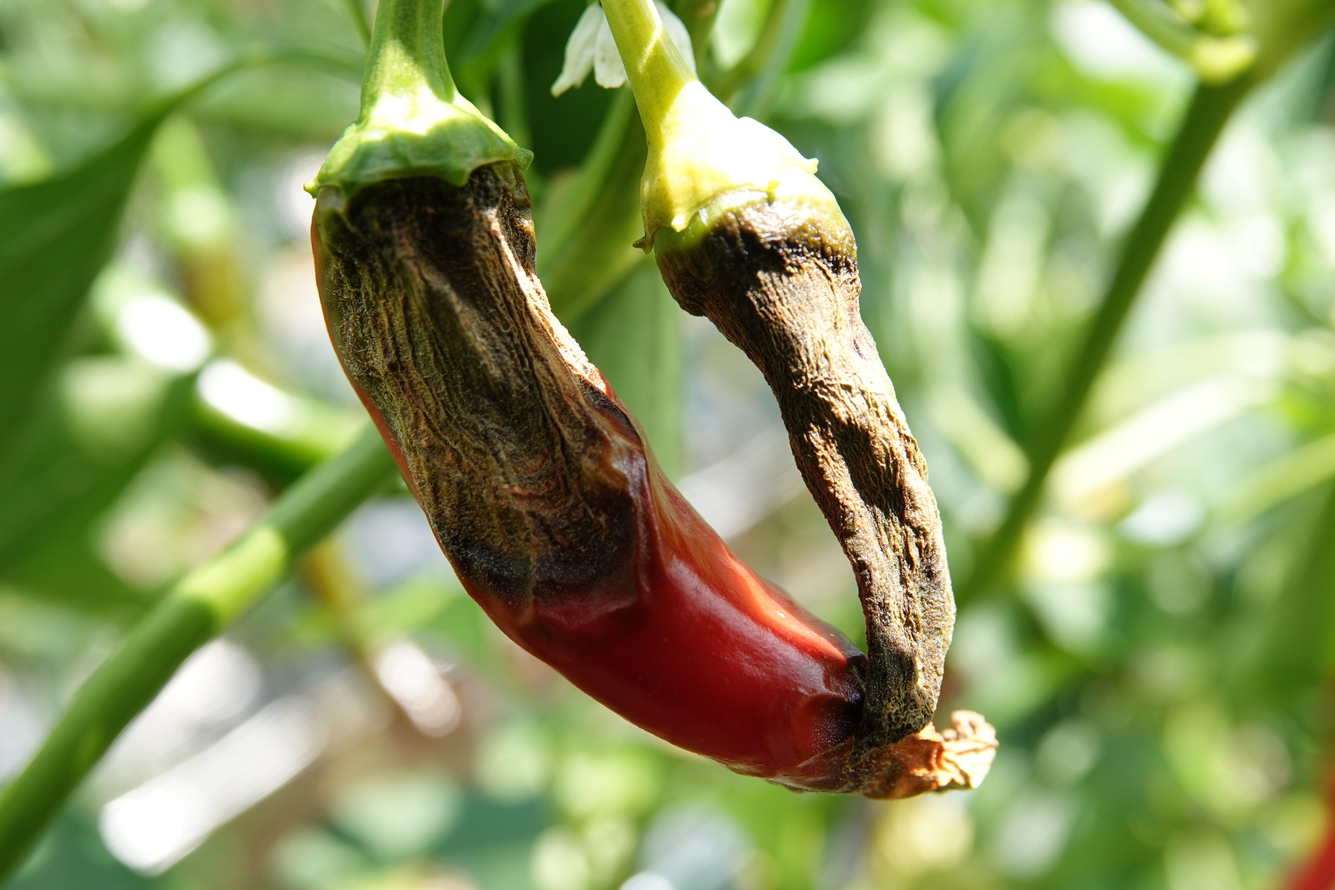Busuk Buah Antraknosa: (302, 84, 999, 802), (637, 103, 958, 735)
